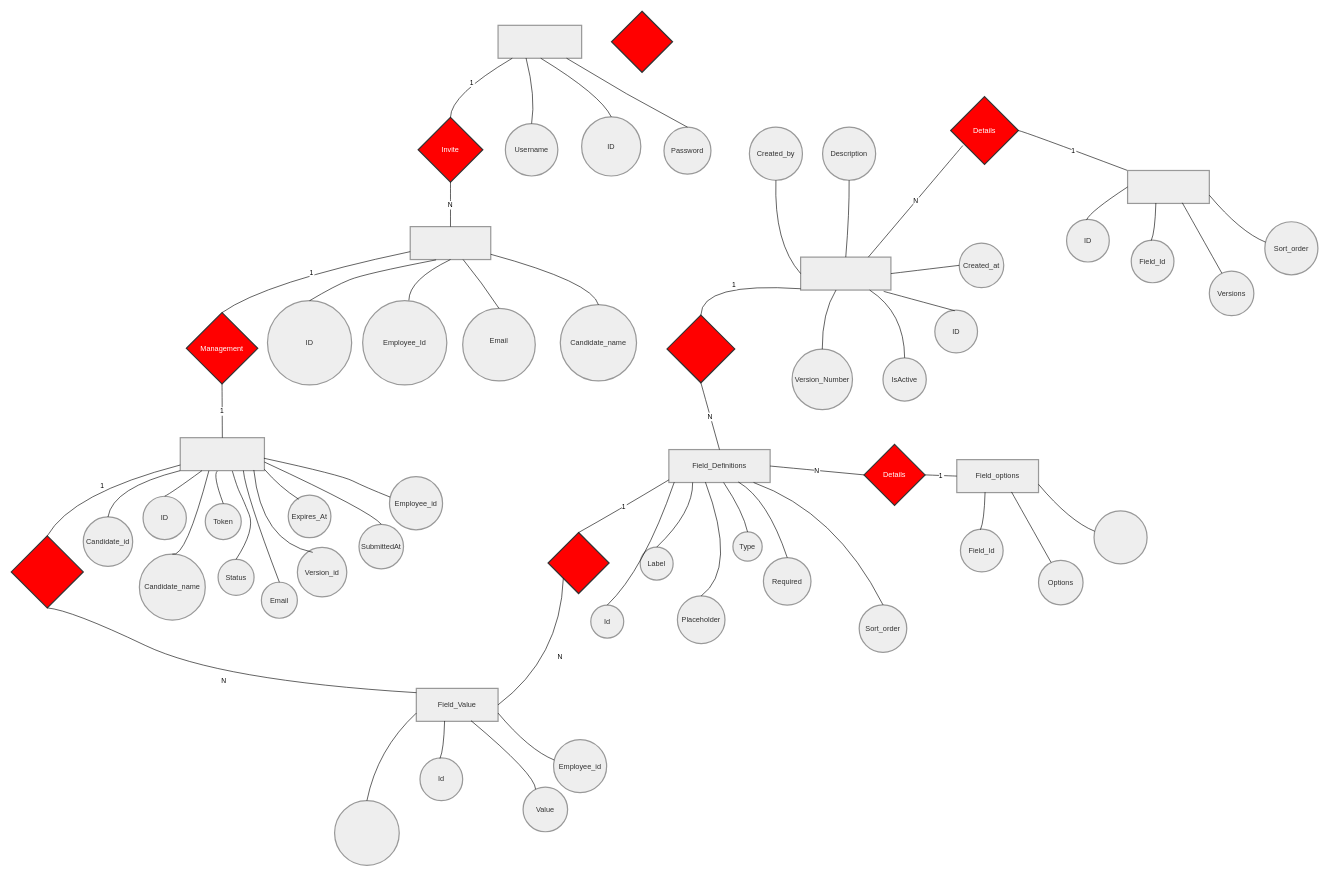
The diagram is 1329 pixels wide and 876 high, and some of its shapes have lost their labels. The box of each missing label's shape, as (x1, y1, x2, y2) in pixels:
AdminUser: (497, 24, 582, 59)
Assign: (611, 10, 673, 73)
Candidates: (409, 226, 491, 260)
Capture: (666, 314, 735, 383)
Content: (10, 535, 84, 608)
Define: (547, 532, 609, 594)
FieldDefinitionId: (334, 800, 400, 866)
Form_Versions: (800, 256, 891, 290)
Form_versions_field: (1127, 170, 1210, 204)
Options_order: (1093, 510, 1147, 564)
Submission: (179, 437, 265, 471)
